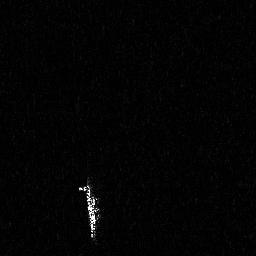ship: (77, 174, 107, 244)
